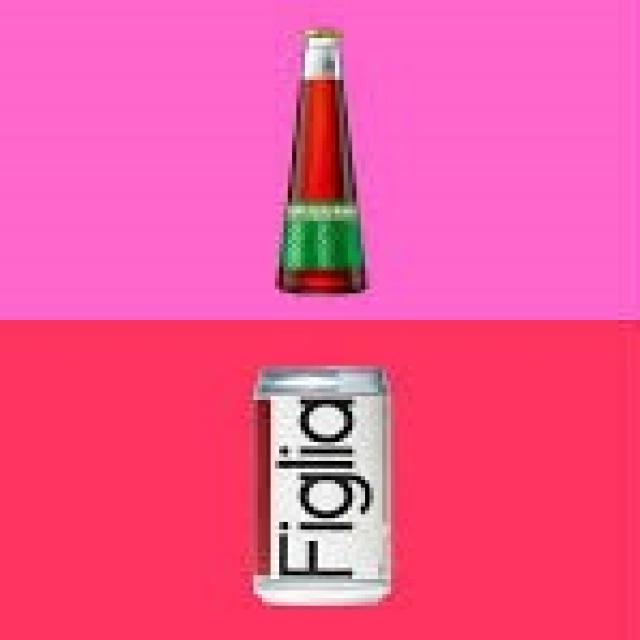Cans: (236, 350, 408, 621)
